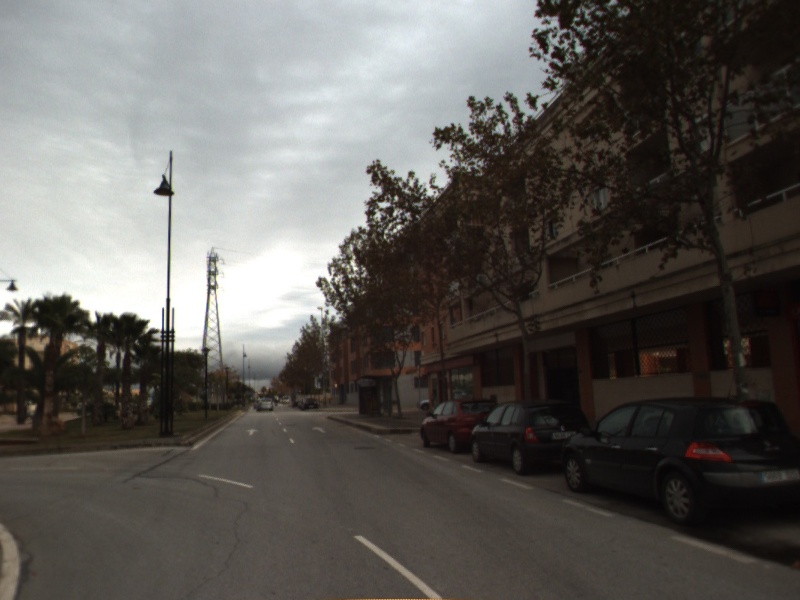STRAIGHT: (310, 424, 329, 435), (244, 427, 261, 437)
